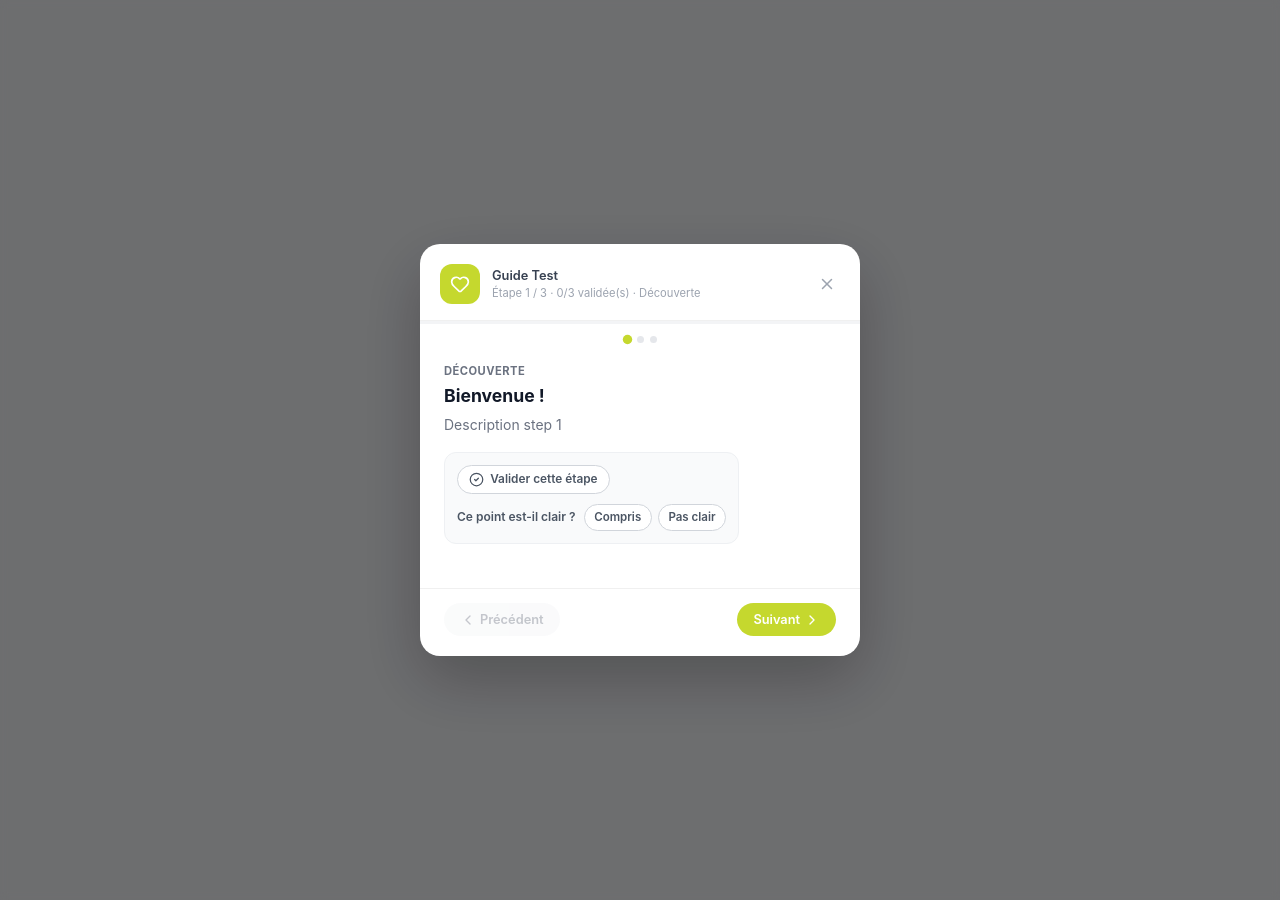
TutorialGuide.vue › shows "Terminer" button on last step
Navigate to last step
Click the button with class "tutorial-nav--next": [787, 620] box [737,603,836,636]
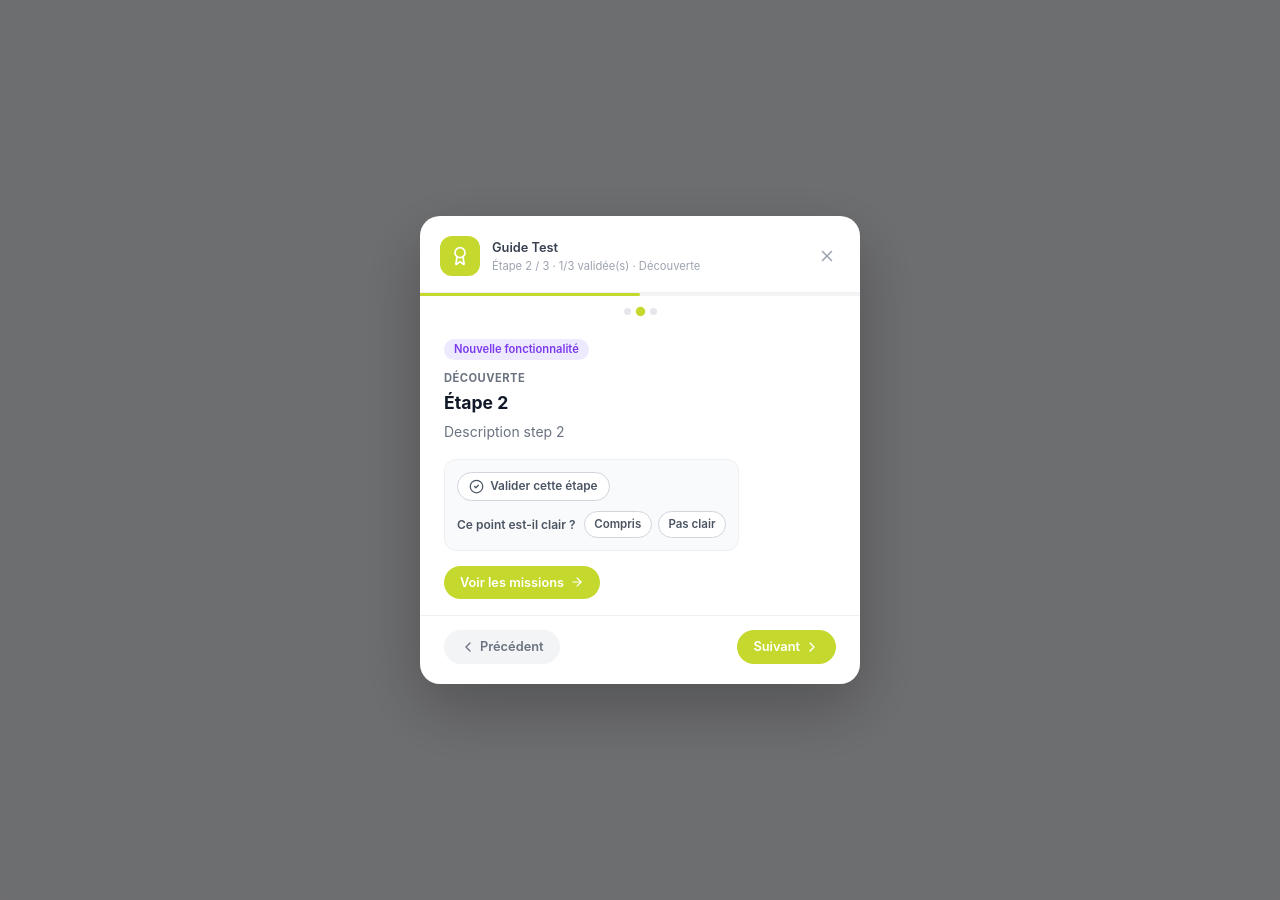
Click the button with class "tutorial-nav--next": [787, 647] box [737,630,836,664]
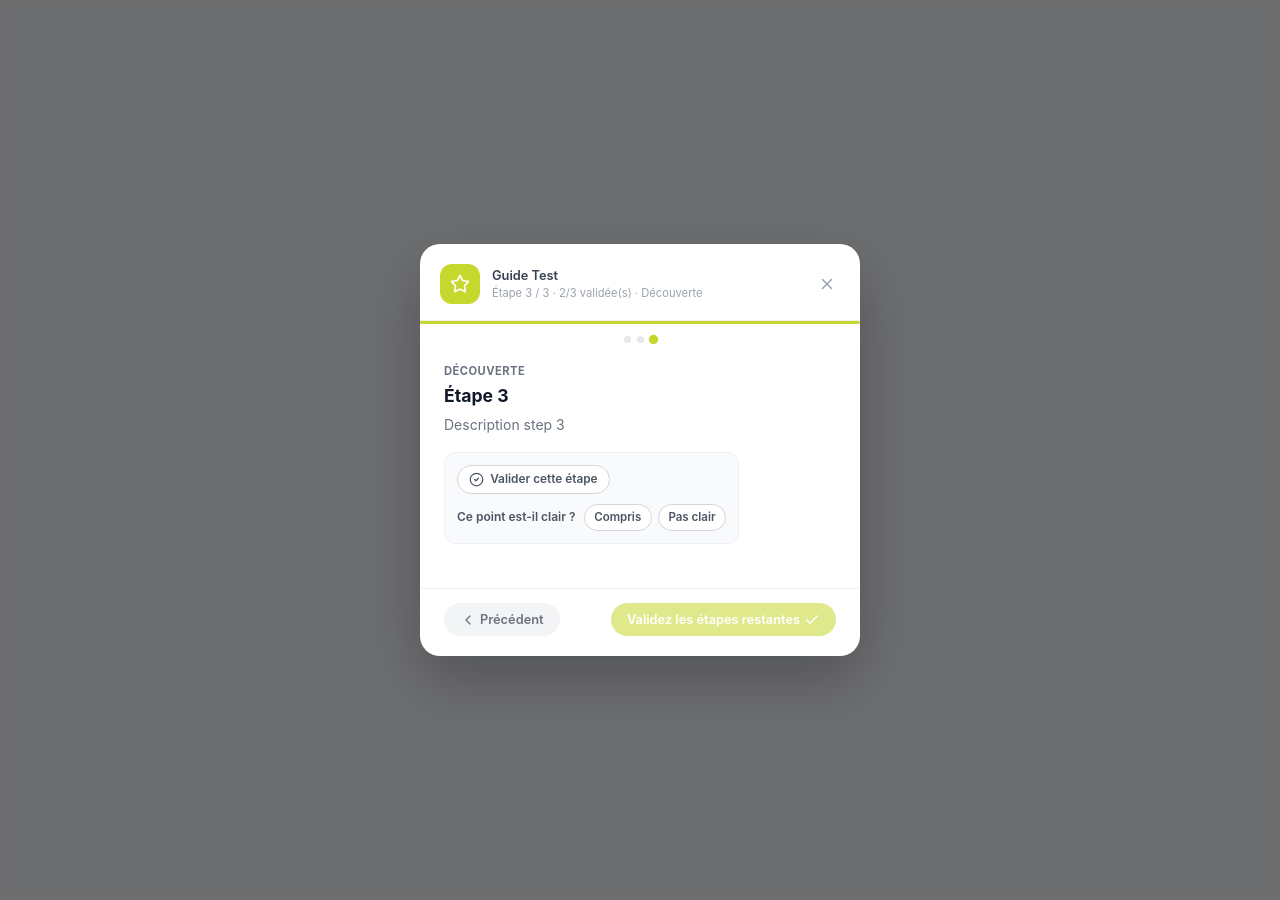
Validate current step to unlock final completion action
Click the button with class "tutorial-check": [533, 480] box [457,465,610,494]
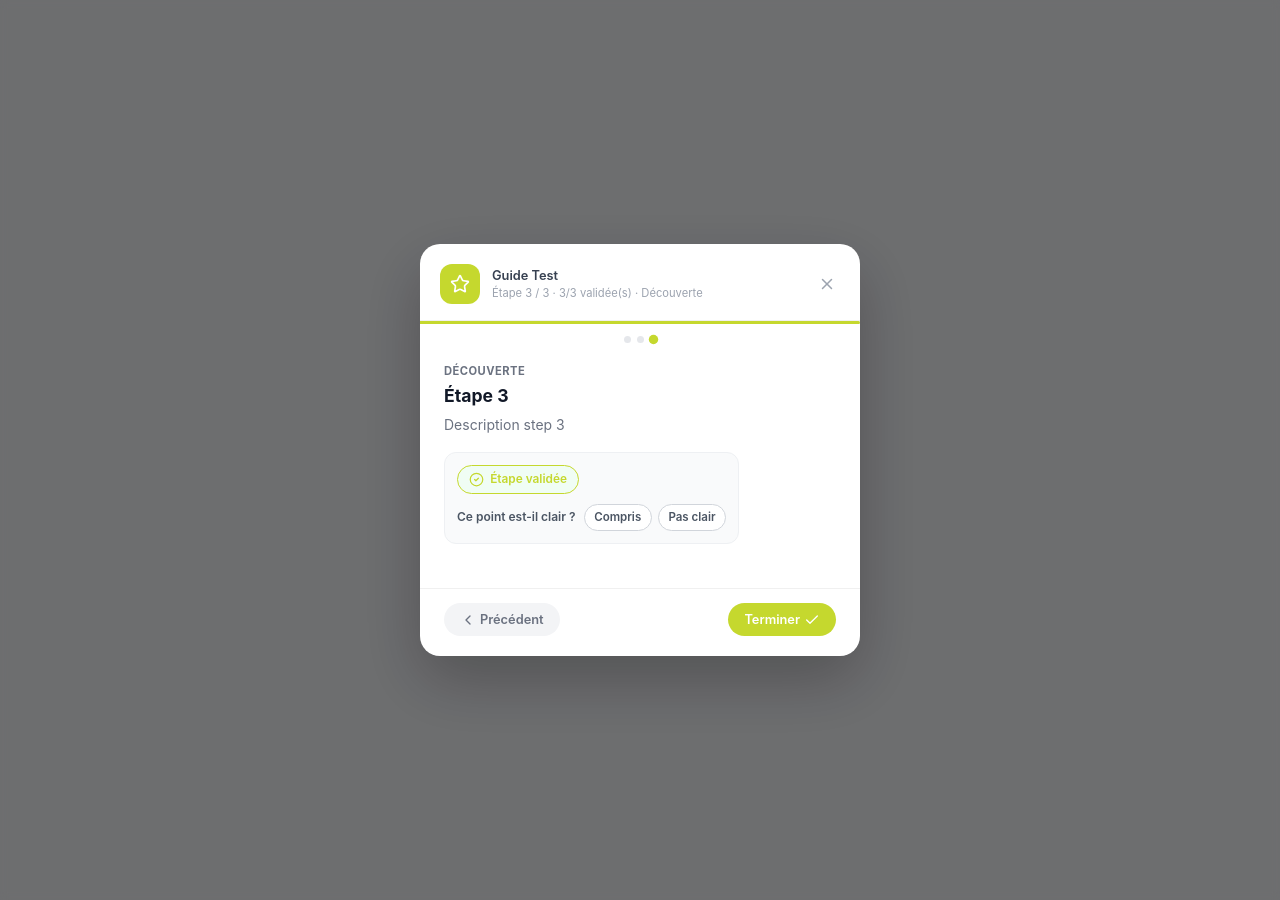
Now the text "Terminer" is shown, box [728,603,836,636]
